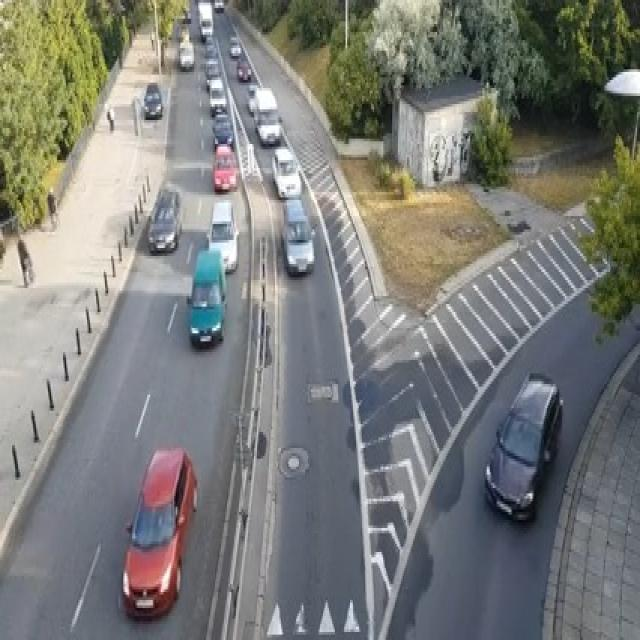car: (122, 445, 196, 619), (484, 370, 563, 522), (186, 248, 227, 347), (280, 197, 316, 275), (147, 184, 182, 253), (206, 200, 239, 272), (252, 85, 281, 144), (270, 144, 300, 197), (212, 144, 237, 192), (212, 112, 233, 149), (209, 77, 227, 115), (143, 83, 162, 117), (0, 197, 17, 235), (197, 0, 213, 40), (204, 56, 220, 91), (179, 40, 194, 69), (246, 82, 258, 114), (236, 59, 251, 80), (204, 35, 217, 56), (228, 35, 240, 56), (213, 0, 224, 11), (183, 8, 191, 21)
